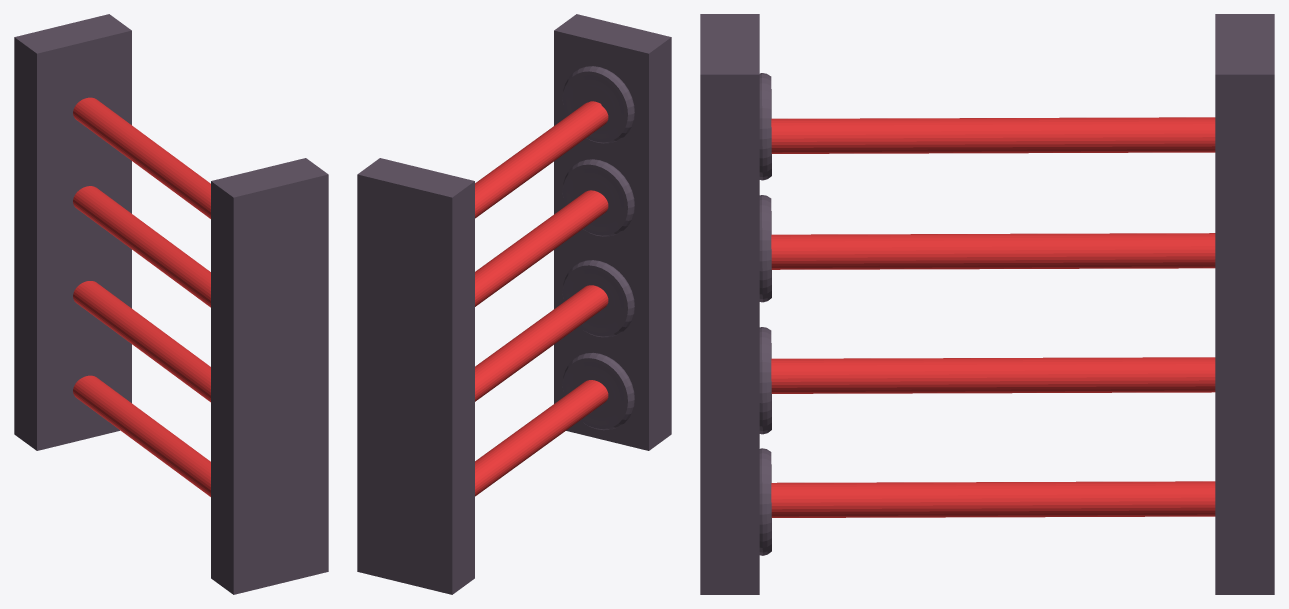
Rendered from LASREFINALSCALE.fbx.
3 views of the same model, side by side, from view 1: azimuth 30°, elevation 25°; view 2: azimuth 150°, elevation 25°; view 3: azimuth 270°, elevation 25° (orthographic). The views are drawn at different scales.
Visible parts, largest first — view 1: Cylinder; view 2: Cylinder; view 3: Cylinder.
Part boxes in pixels (left/top/right/bottom): Cylinder: left=14, top=14, right=328, bottom=594; Cylinder: left=357, top=14, right=671, bottom=594; Cylinder: left=700, top=14, right=1274, bottom=594.
Size of the model in its own units: 50 by 200 by 200.
1 material, 1 textured.
